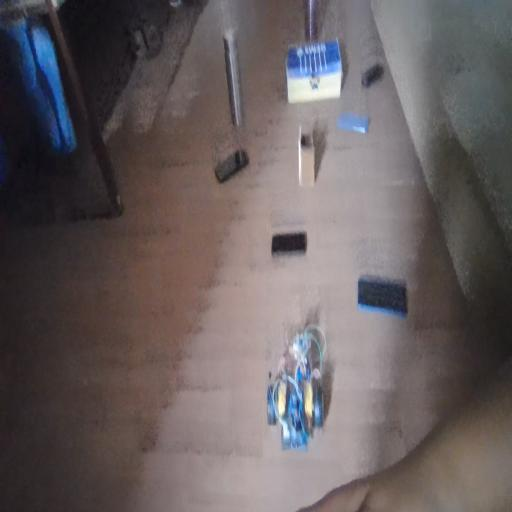car: (267, 328, 350, 499)
